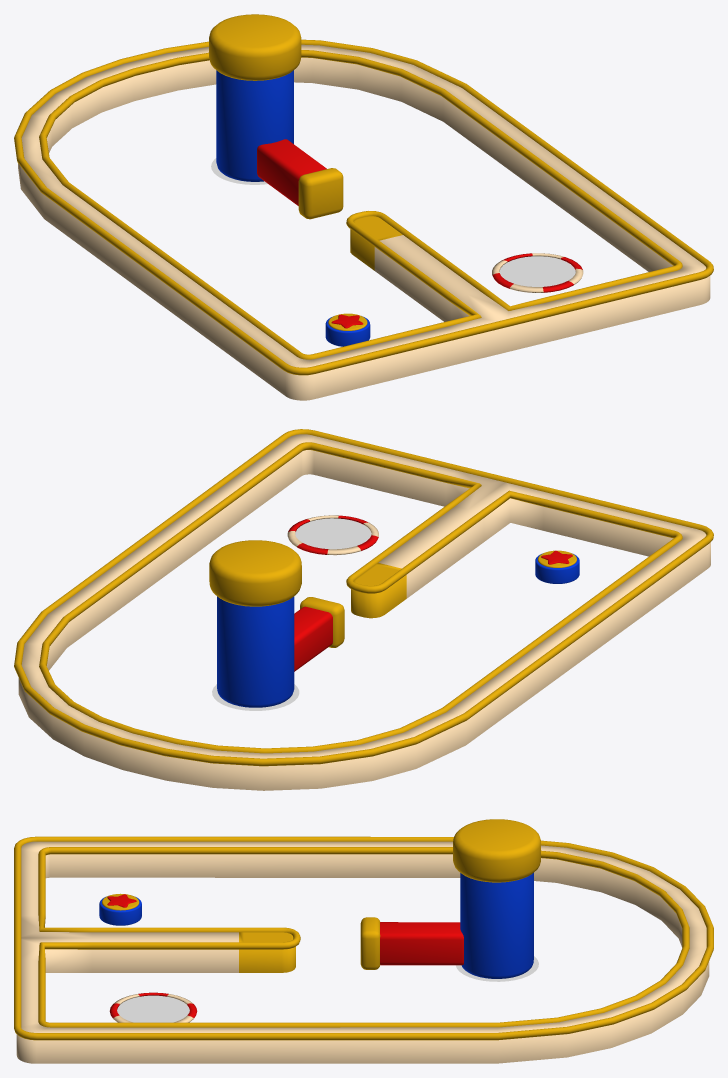
Rendered from case_test_scene.fbx.
The picture shows the model from 3 angles, top to bottom: view 1: azimuth 30°, elevation 25°; view 2: azimuth 150°, elevation 25°; view 3: azimuth 270°, elevation 25°; orthographic projection. The views are drawn at different scales.
Parts seen in each view (by area): view 1: level_frame, obstacle, hole_frame, disc, hole_goal; view 2: level_frame, obstacle, hole_frame, disc, hole_goal; view 3: level_frame, obstacle, hole_frame, disc, hole_goal, hole_obstacle.
Part boxes in pixels (x1=…): level_frame: x1=14, y1=39, x2=713, y2=400; obstacle: x1=209, y1=14, x2=343, y2=219; hole_frame: x1=499, y1=256, x2=575, y2=286; disc: x1=325, y1=313, x2=370, y2=346; hole_goal: x1=492, y1=253, x2=583, y2=292; level_frame: x1=14, y1=429, x2=713, y2=790; obstacle: x1=209, y1=540, x2=344, y2=707; hole_frame: x1=295, y1=518, x2=371, y2=549; disc: x1=535, y1=550, x2=579, y2=583; hole_goal: x1=287, y1=515, x2=378, y2=555; level_frame: x1=14, y1=836, x2=713, y2=1063; obstacle: x1=360, y1=819, x2=540, y2=978; hole_frame: x1=117, y1=995, x2=189, y2=1022; disc: x1=99, y1=893, x2=141, y2=925; hole_goal: x1=109, y1=992, x2=197, y2=1022; hole_obstacle: x1=456, y1=956, x2=538, y2=981.
Bounding box in the file's own units: 1278 × 391 × 1896.
